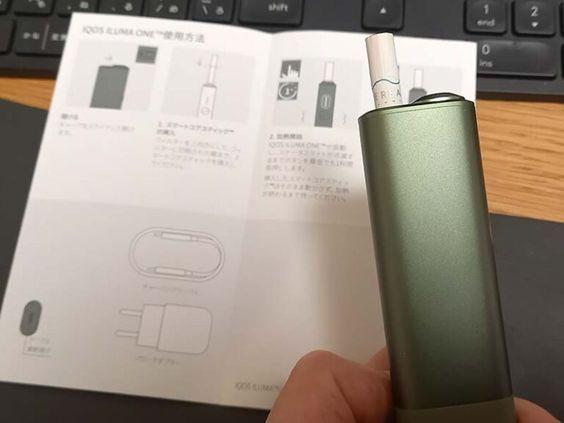iqos: (358, 34, 514, 422)
